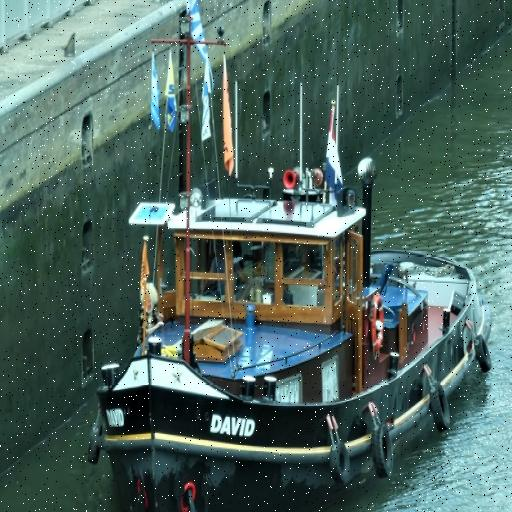tugboat: (85, 156, 496, 512)
